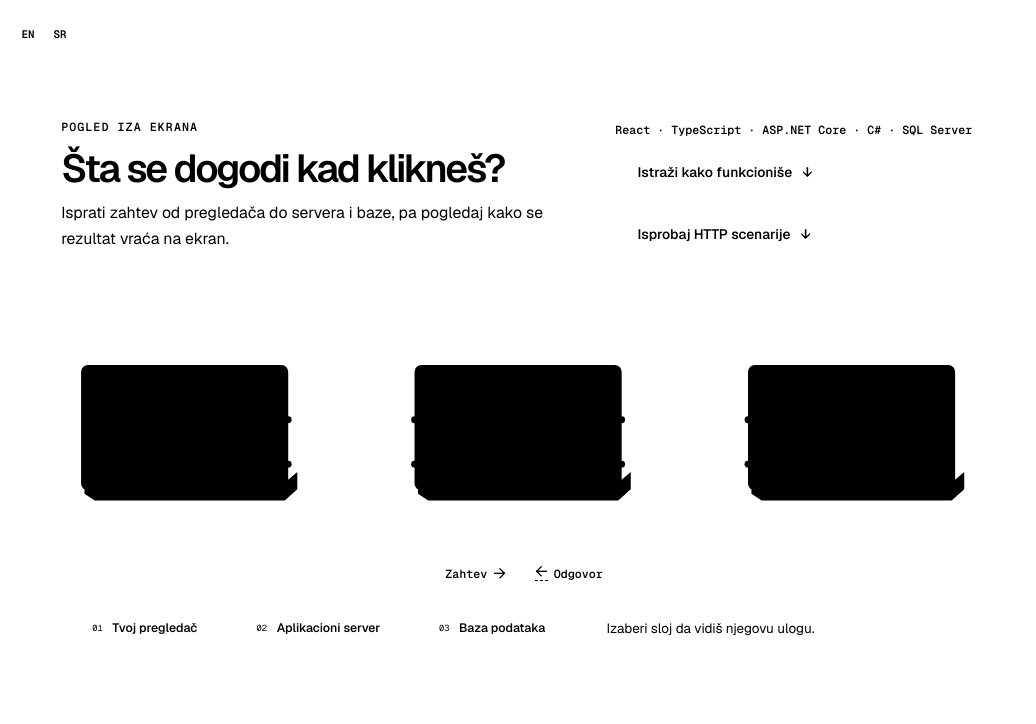
Test: opens the first stage directly and restores focus and initial playback on reopening
This screenshot has width=1036, height=724.
Step 1. Press Enter
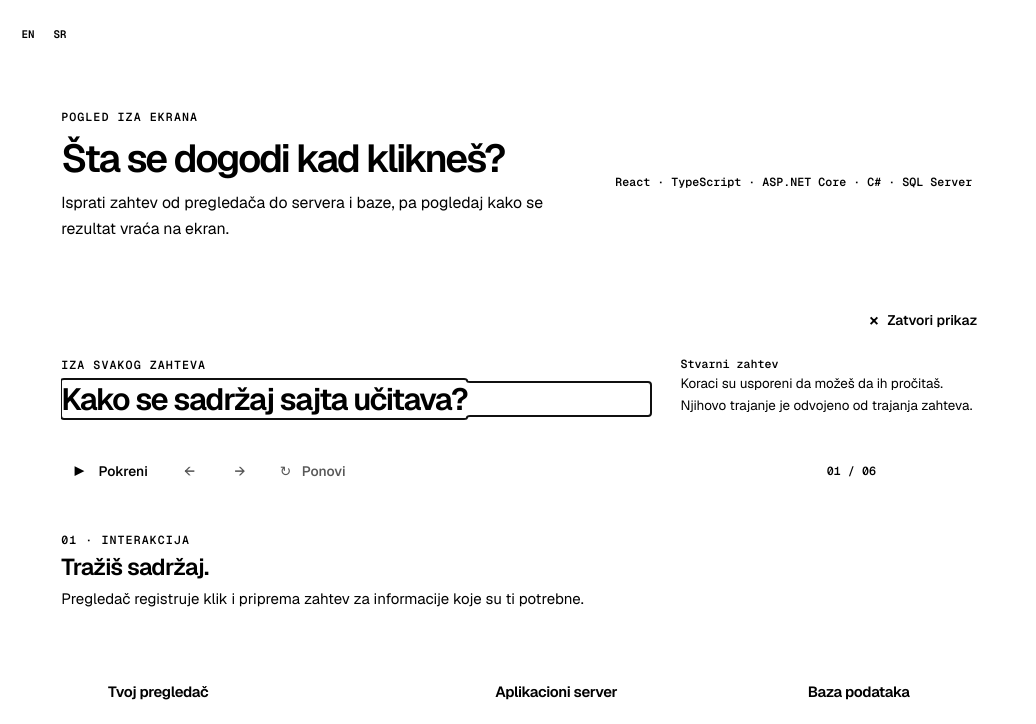
Expected: the button named "Sledeći korak" is disabled, [218, 449, 262, 493]
Now the text "01 / 06" is shown, box [827, 463, 876, 478]
Step 2. Click the button "▶ Pokreni" → (111, 471), box [61, 449, 161, 493]
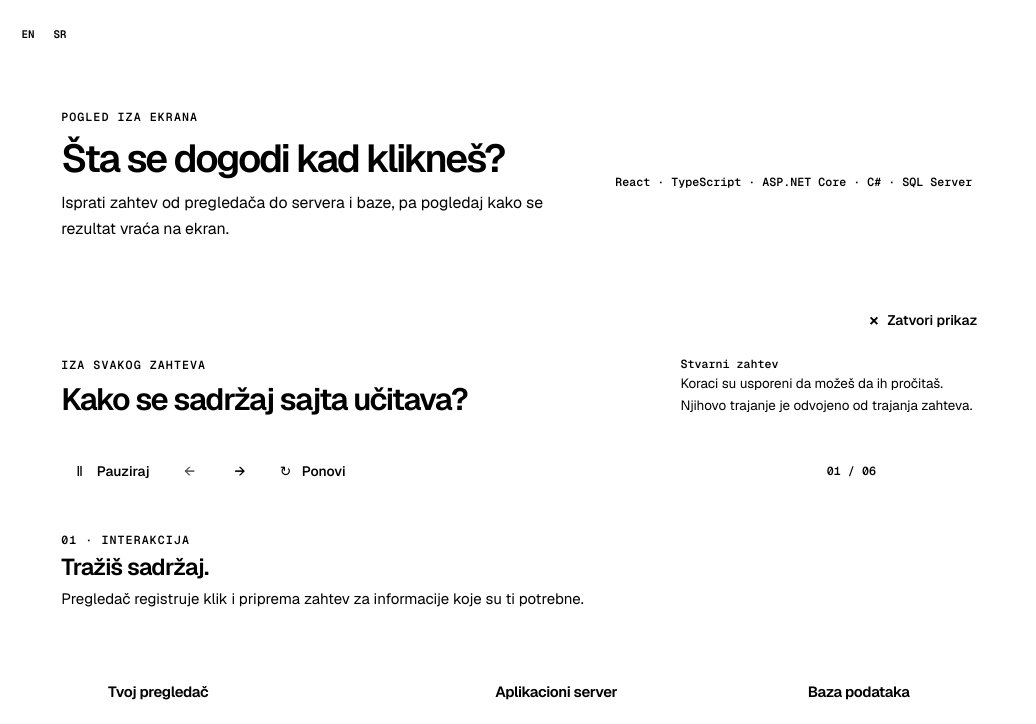
Step 3. Click the button named "Sledeći korak" → (240, 471), box [218, 449, 262, 493]
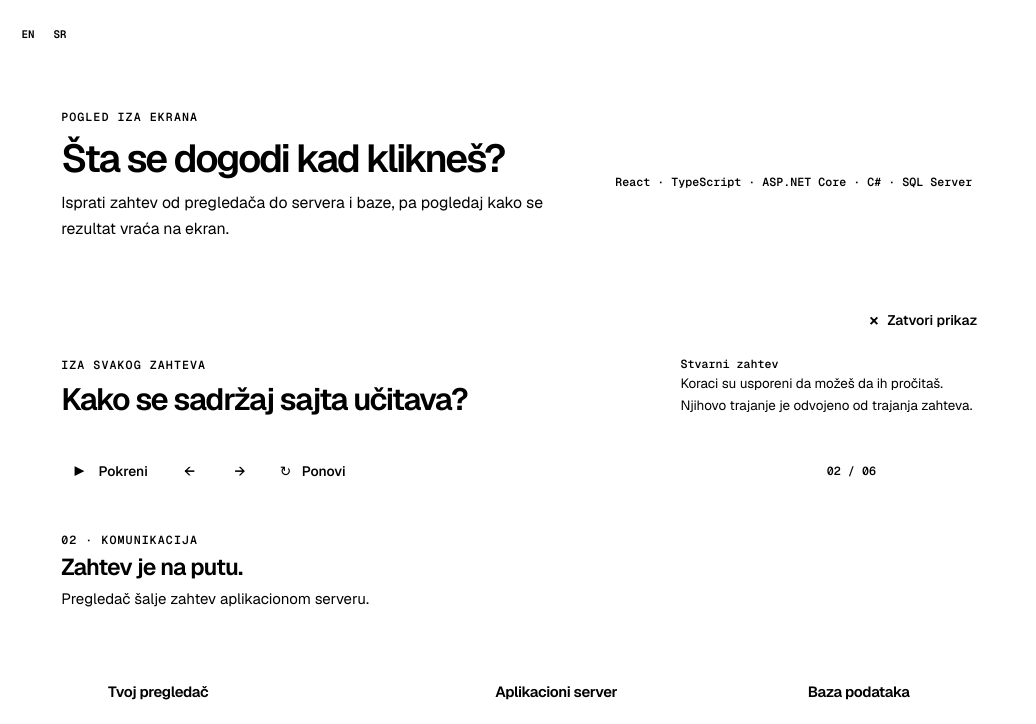
Now the text "02 / 06" is shown, box [827, 463, 876, 478]
Step 4. Click the button "× Zatvori prikaz" → (923, 320), box [860, 298, 987, 342]
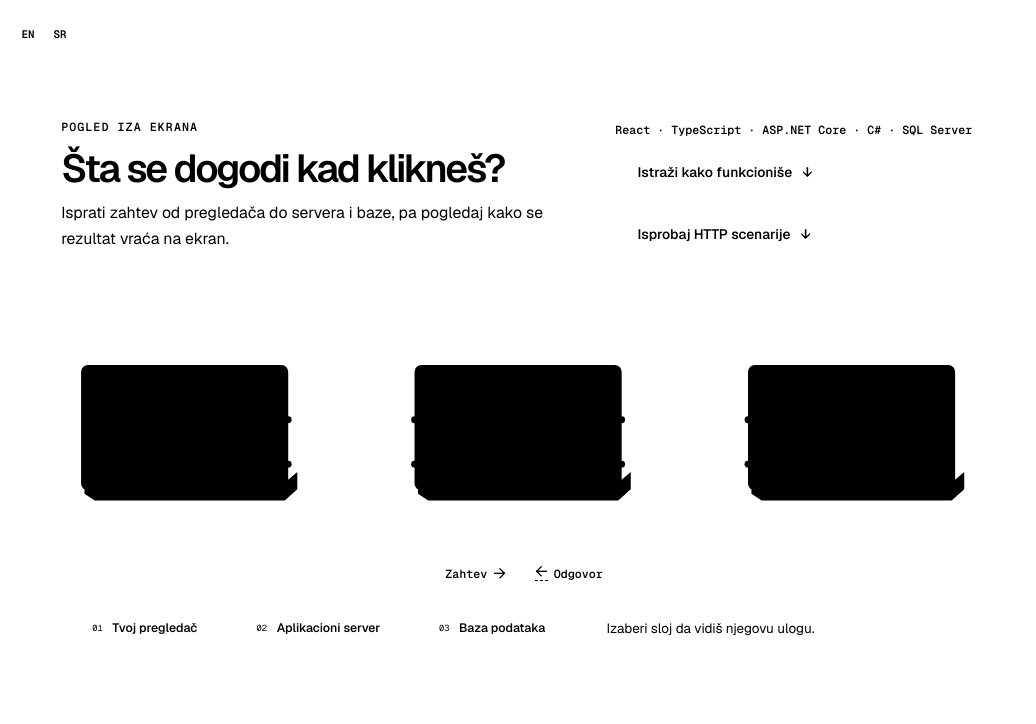
Step 5. Press Enter
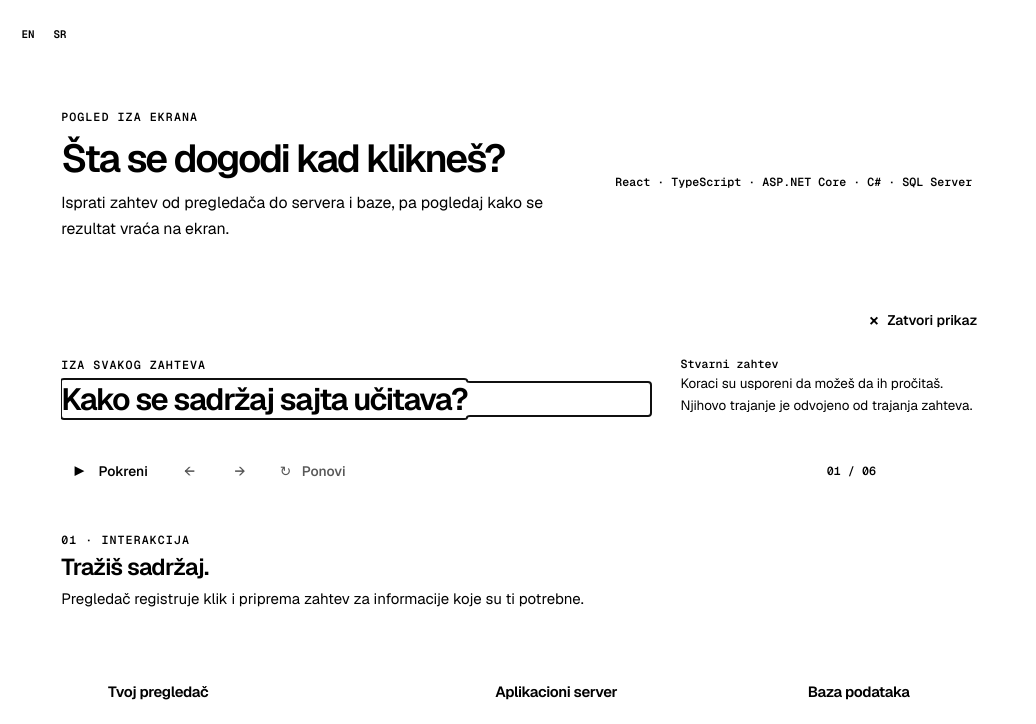
Now the button named "Sledeći korak" is disabled, box [218, 449, 262, 493]
Now the text "01 / 06" is shown, box [827, 463, 876, 478]
